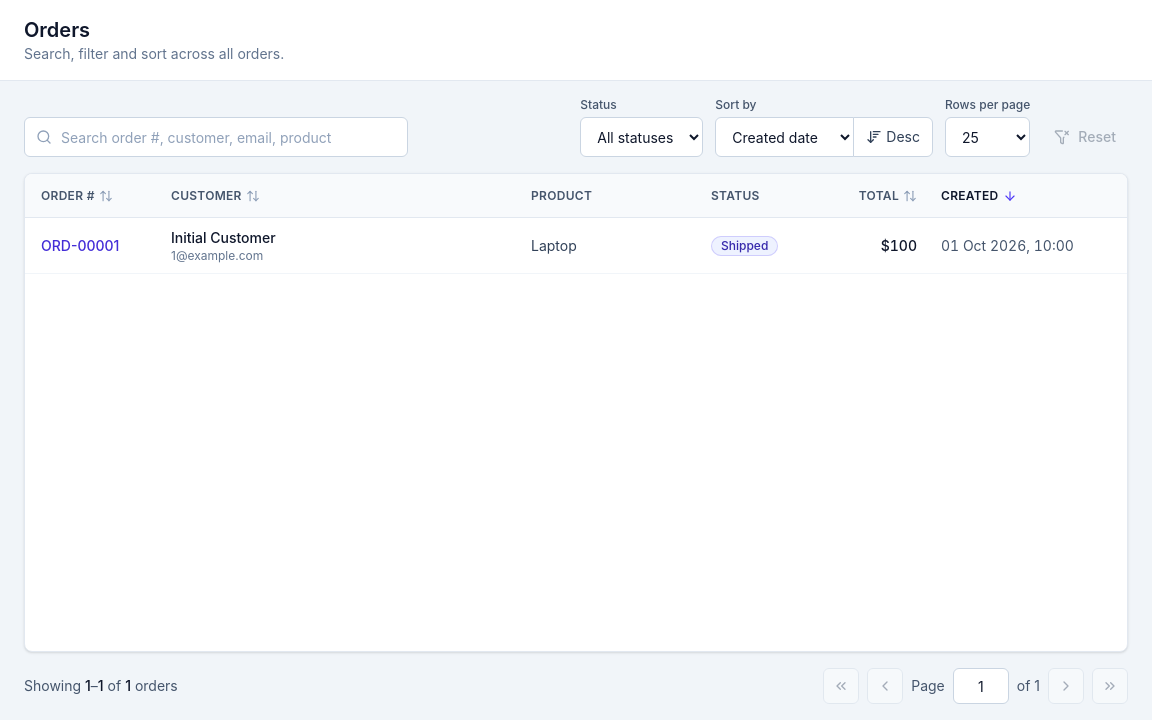
Test case: OrdersPage › never lets a slow, superseded search response overwrite a newer one
The width and height of the screenshot is (1152, 720).
Check: the text "Initial Customer" is shown, box [171,228,276,246]
Step 1. Type "a" into the search field named "Search orders" → (216, 137), box [24,117,408,157]
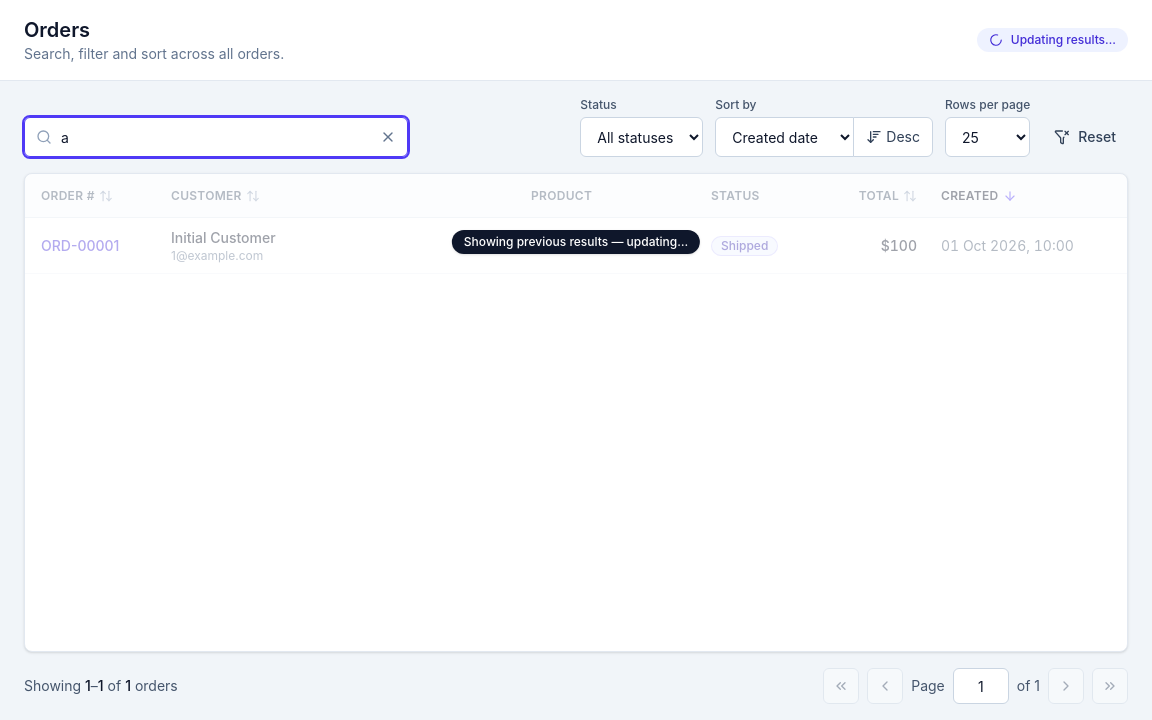
Step 2. Type "l" into the search field named "Search orders" → (216, 137), box [24,117,408,157]
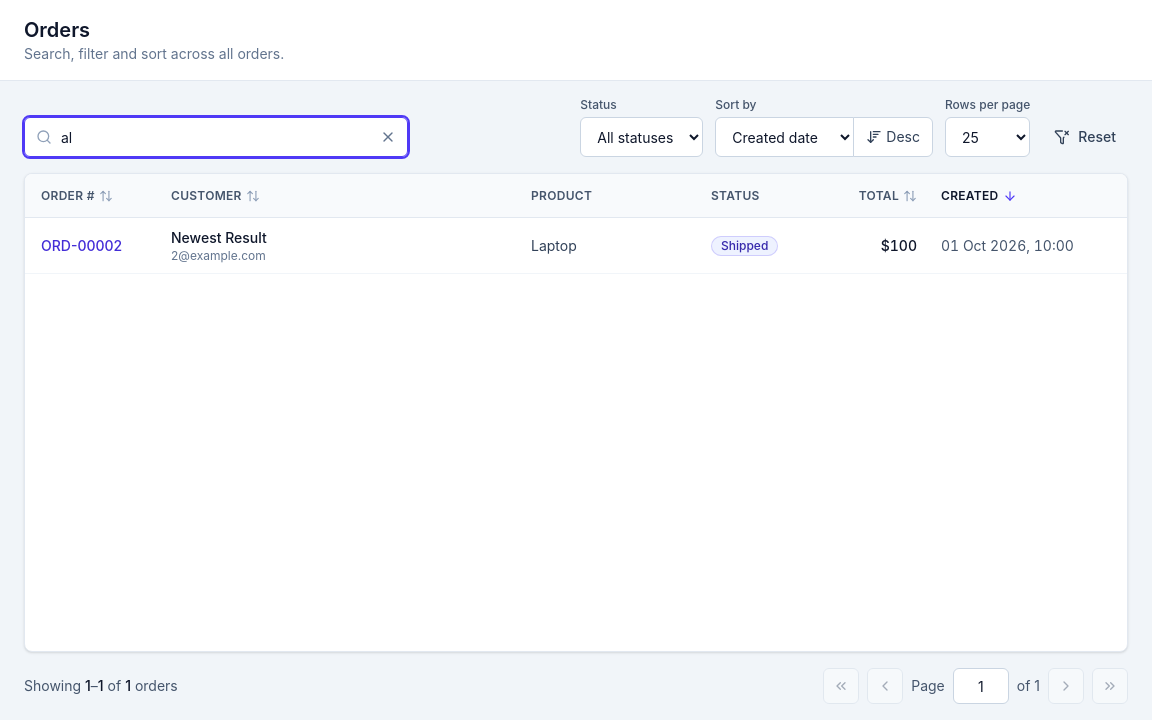
Check: the text "Newest Result" is shown, box [171,228,267,246]
